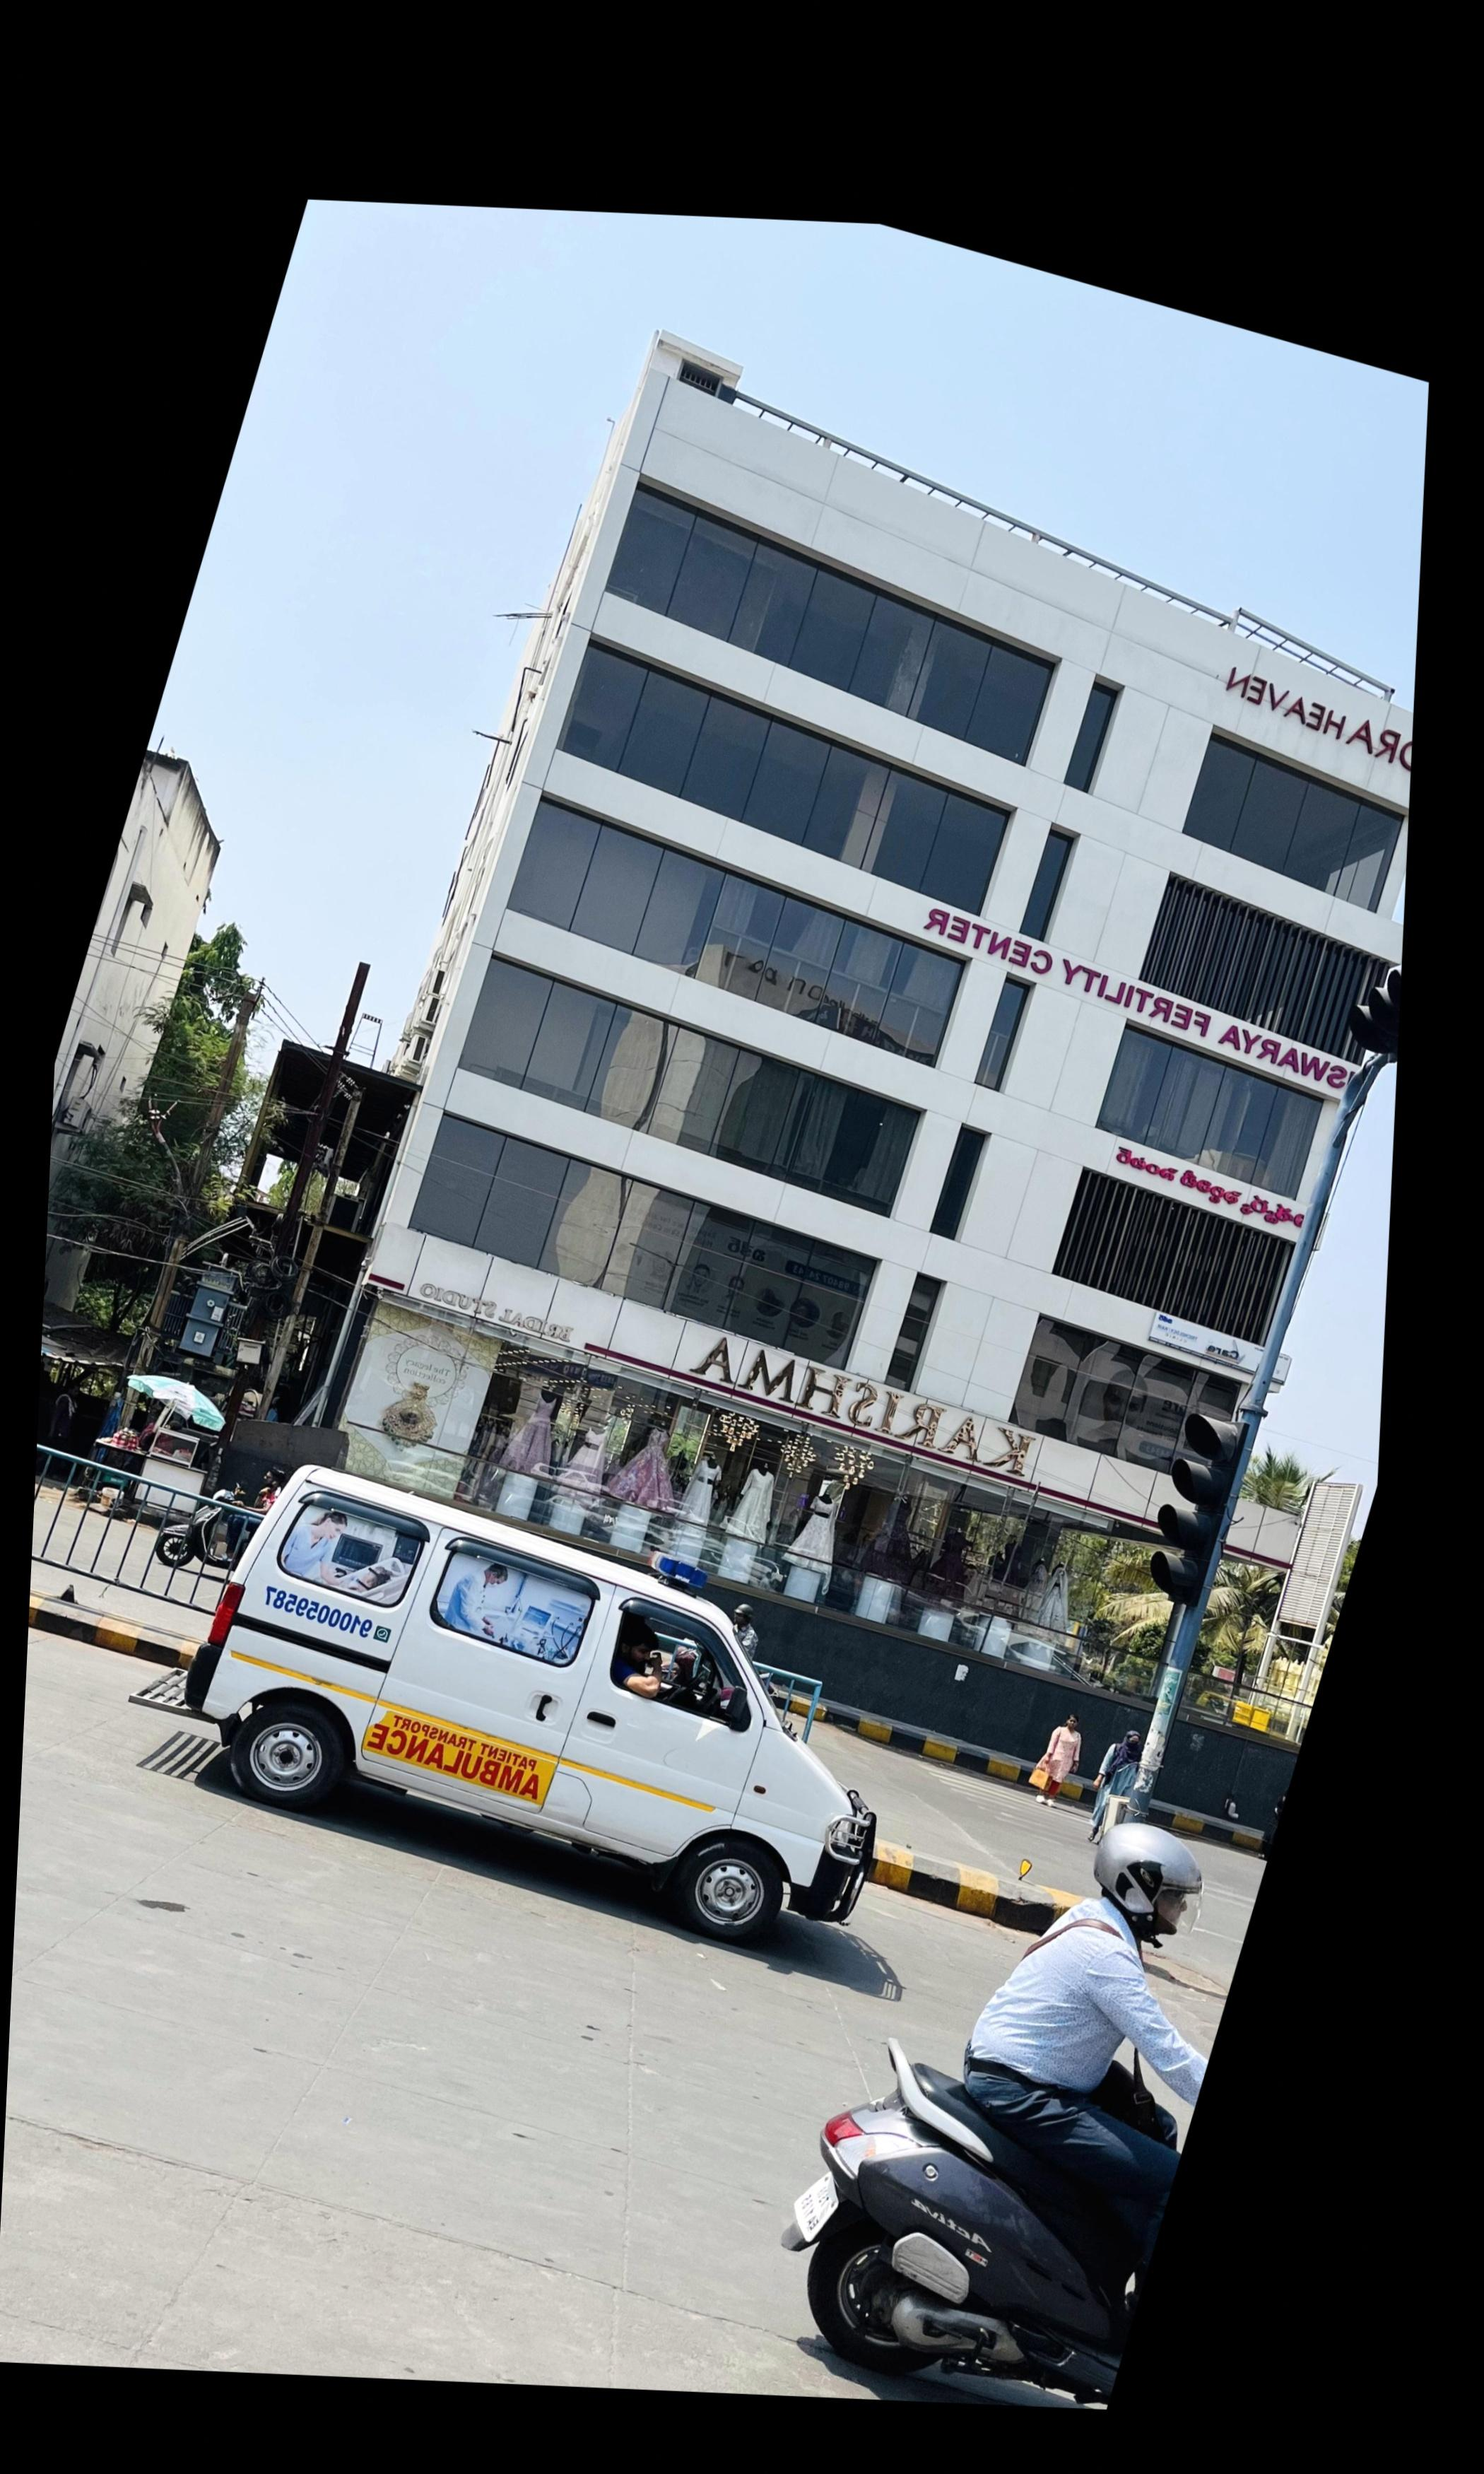ambulance: (196, 1470, 882, 1954)
